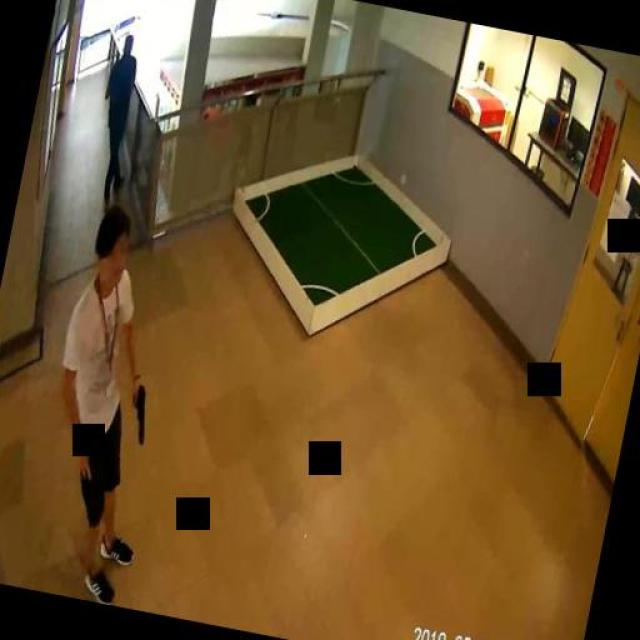gun: (122, 381, 152, 444)
